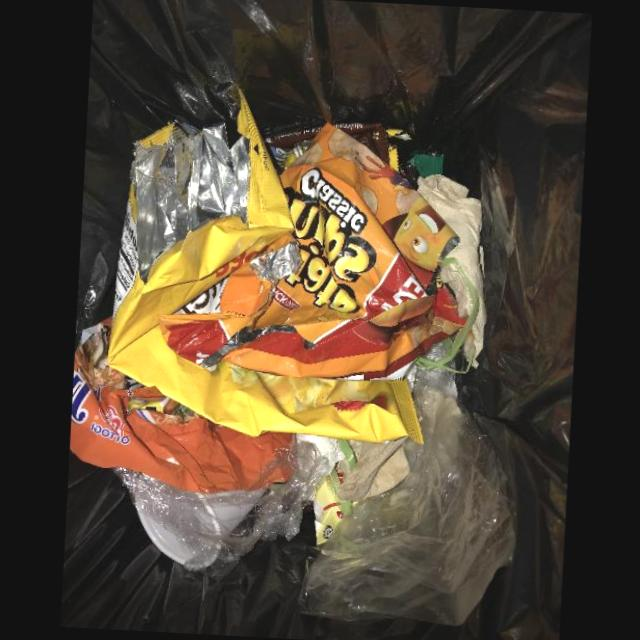bao_bi_thuc_pham: (106, 86, 423, 443), (159, 124, 467, 378), (70, 316, 293, 493)
giay: (417, 173, 487, 359)
tui_ni_long: (301, 392, 517, 626), (113, 440, 334, 570)
